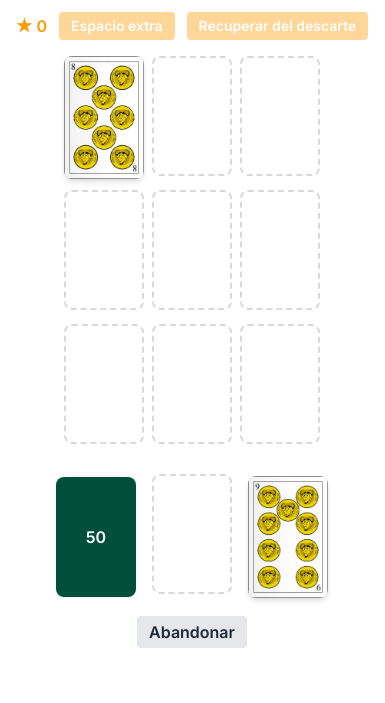
Test: GamePage · bonus › un error no-API muestra el mensaje genérico
Click the 1st button named "8 de oros" at {"x": 104, "y": 117}, box [64,56,144,179]
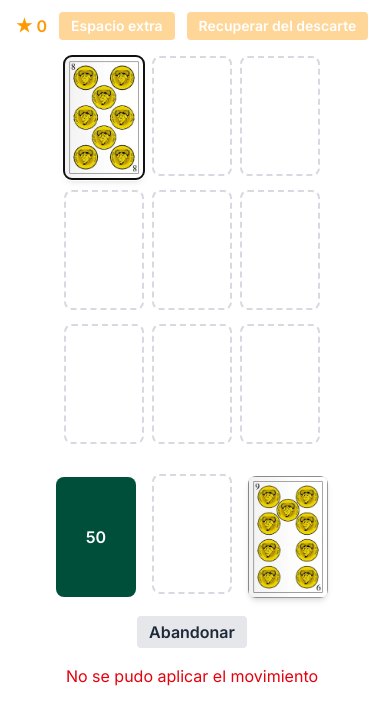
Check: the message reads "No se pudo aplicar el movimiento", box [66,666,318,686]
